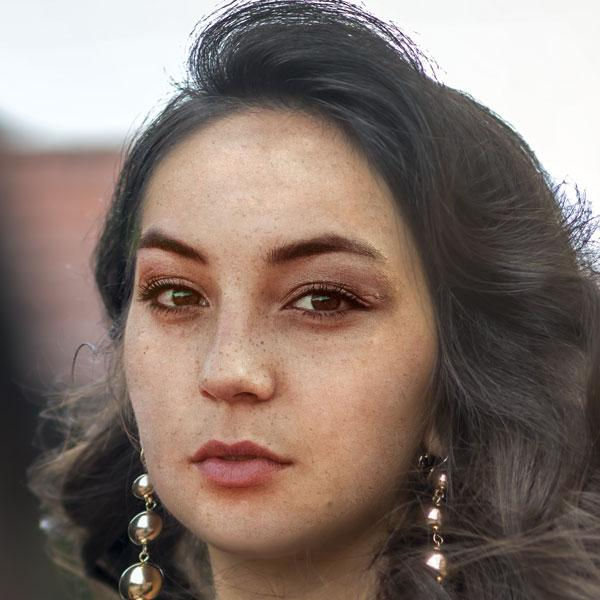Eyes: (271, 270, 379, 328), (136, 268, 218, 325)
